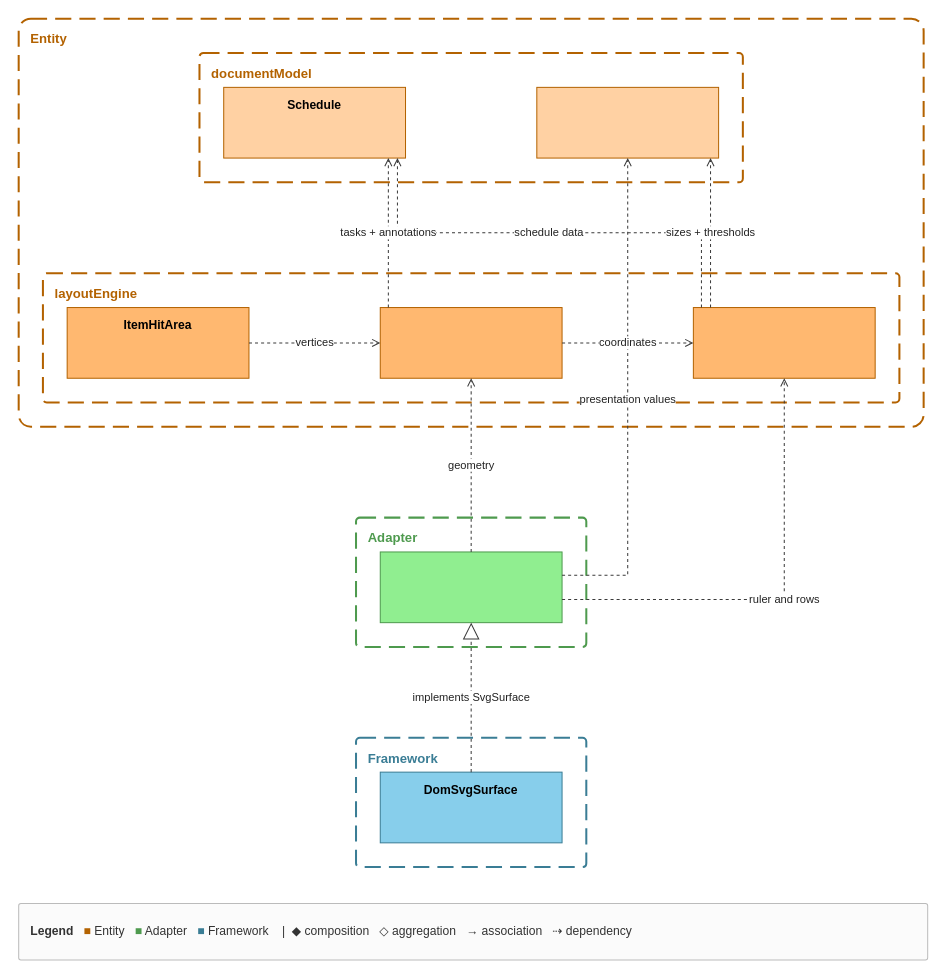
Some shapes in this 945 by 978 pixel diagram are drawn without their labels. The shapes that lost their labels are listed below. From the top down, each one's centre as x and y in pixels, then its label:
At pixel 627 122: "DocumentSettings".
At pixel 470 342: "ScheduleGeometry".
At pixel 783 342: "ScheduleLayout".
At pixel 470 587: "SvgRenderer".
